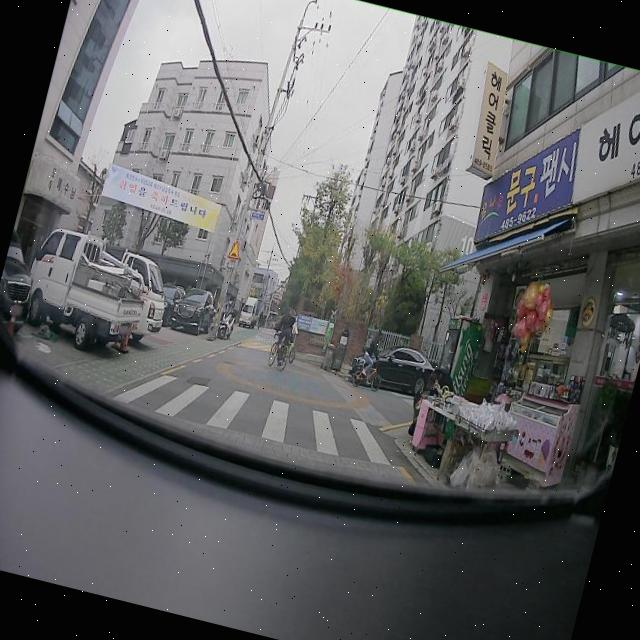crosswalk: (107, 369, 396, 469)
